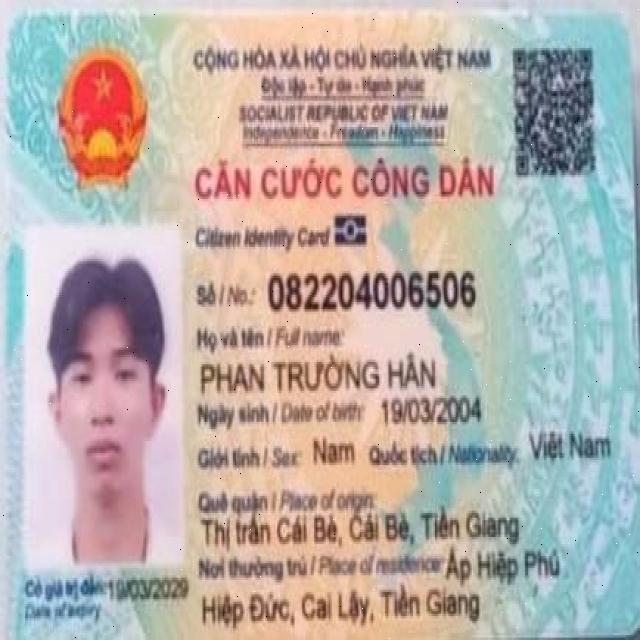current_place: (196, 580, 482, 628), (445, 539, 565, 590)
dob: (379, 393, 485, 429)
expire_date: (106, 573, 190, 611)
gender: (308, 431, 357, 472)
id: (264, 264, 481, 316)
name: (195, 350, 439, 393)
nationality: (525, 424, 616, 470)
origin_place: (195, 503, 525, 549)
qr: (507, 44, 609, 184)
